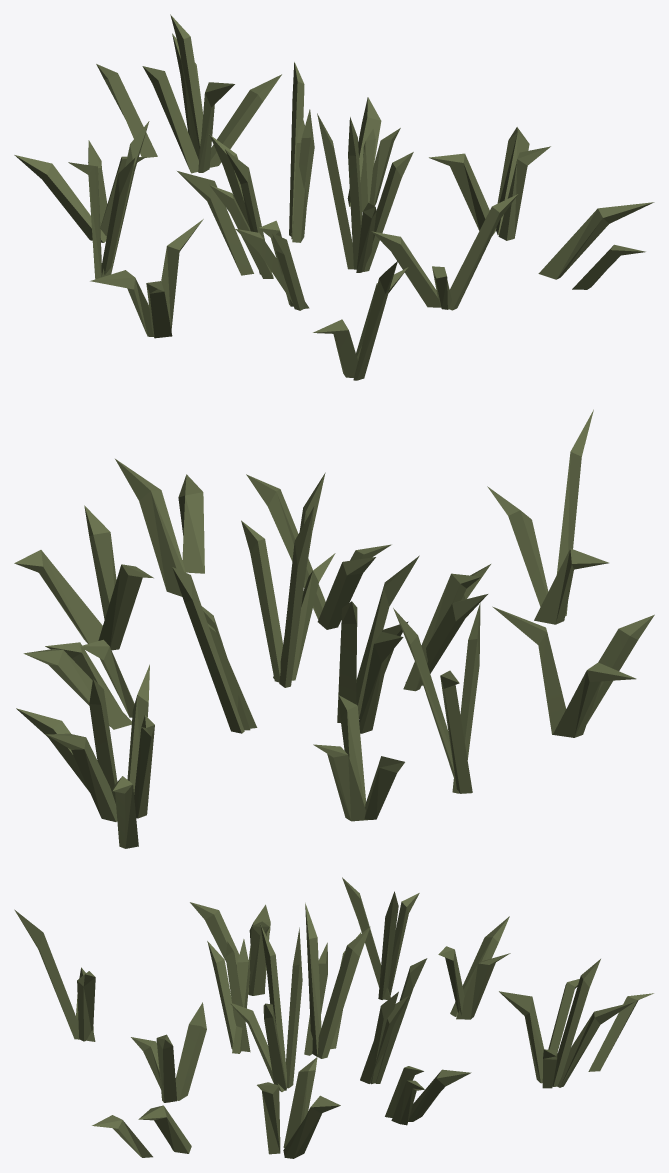
Rendered from hex_grass_1.glb.
The picture shows the model from 3 angles, top to bottom: view 1: azimuth 30°, elevation 25°; view 2: azimuth 150°, elevation 25°; view 3: azimuth 270°, elevation 25°; orthographic projection. The views are drawn at different scales.
Parts seen in each view (by area): view 1: SM_Generic_Grass_Patch_03; view 2: SM_Generic_Grass_Patch_03; view 3: SM_Generic_Grass_Patch_03.
Part boxes in pixels (left/top/right/bottom): SM_Generic_Grass_Patch_03: left=14, top=14, right=654, bottom=380; SM_Generic_Grass_Patch_03: left=14, top=409, right=654, bottom=848; SM_Generic_Grass_Patch_03: left=14, top=877, right=653, bottom=1158.
Bounding box in the file's own units: 1.7 × 0.5493 × 2.07.
1 material, 1 textured.
